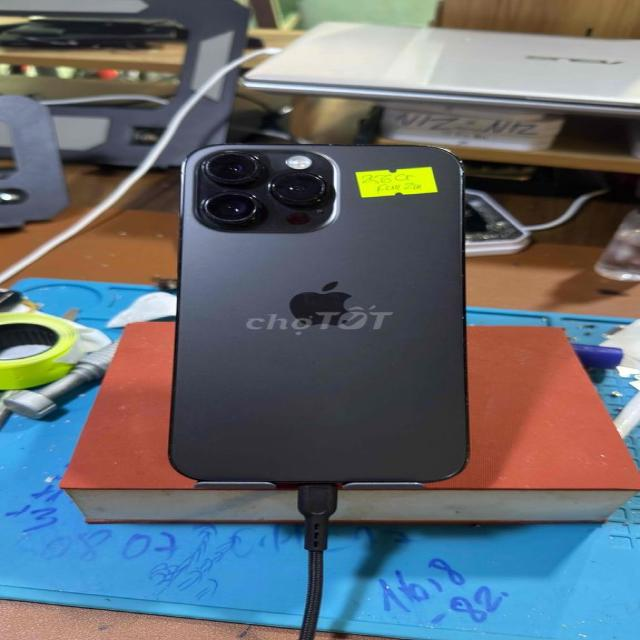gen_14: (156, 130, 487, 487)
